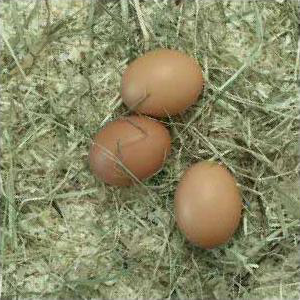egg: (175, 159, 242, 247), (90, 116, 171, 187), (124, 50, 205, 117)
